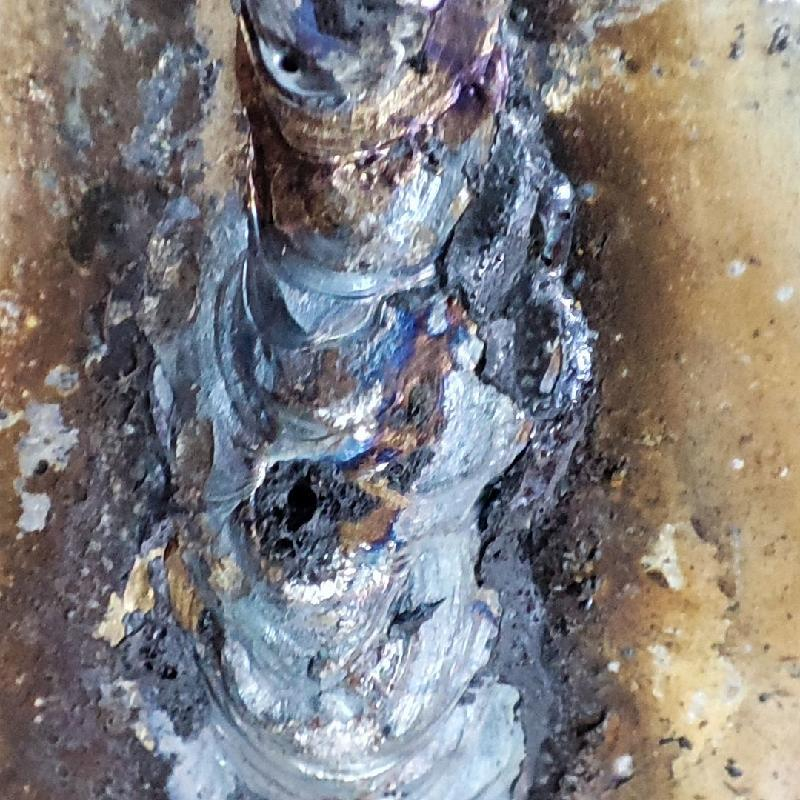Surface_pores: (255, 455, 343, 566), (270, 44, 310, 85)
